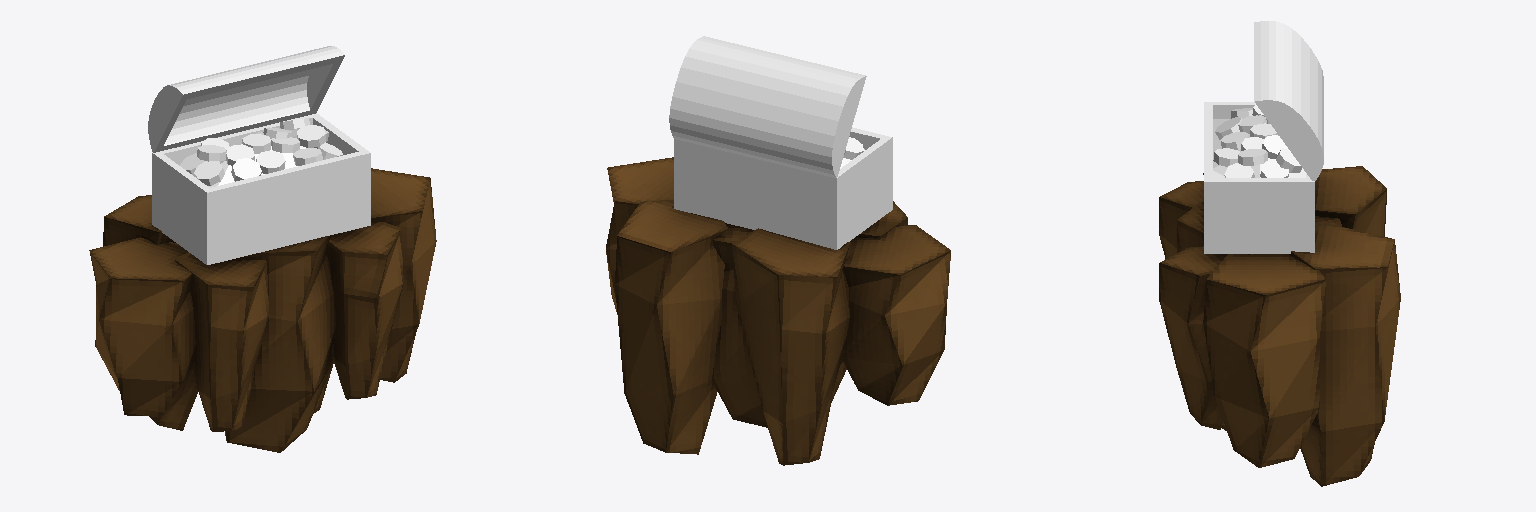
3 views of the same model, side by side, from view 1: azimuth 30°, elevation 25°; view 2: azimuth 150°, elevation 25°; view 3: azimuth 270°, elevation 25° (orthographic).
Parts seen in each view (by area): view 1: Cylinder01, Box03, Line04, Cylinder13, Cylinder21; view 2: Cylinder01, Line04, Box03; view 3: Cylinder01, Box03, Line04, Box04.
Boxes of the visible parts, <box> form: Cylinder01: <box>89,168,436,452</box>; Box03: <box>152,113,370,264</box>; Line04: <box>148,46,344,152</box>; Cylinder13: <box>194,161,224,185</box>; Cylinder21: <box>297,125,325,147</box>; Cylinder01: <box>606,157,950,465</box>; Line04: <box>669,36,866,178</box>; Box03: <box>674,127,892,249</box>; Cylinder01: <box>1159,166,1400,486</box>; Box03: <box>1204,102,1314,253</box>; Line04: <box>1254,21,1323,180</box>; Box04: <box>1213,119,1305,177</box>.
Size of the model in its own units: 49.27 by 54.25 by 30.79.
Materials: 3 (1 with a texture image).